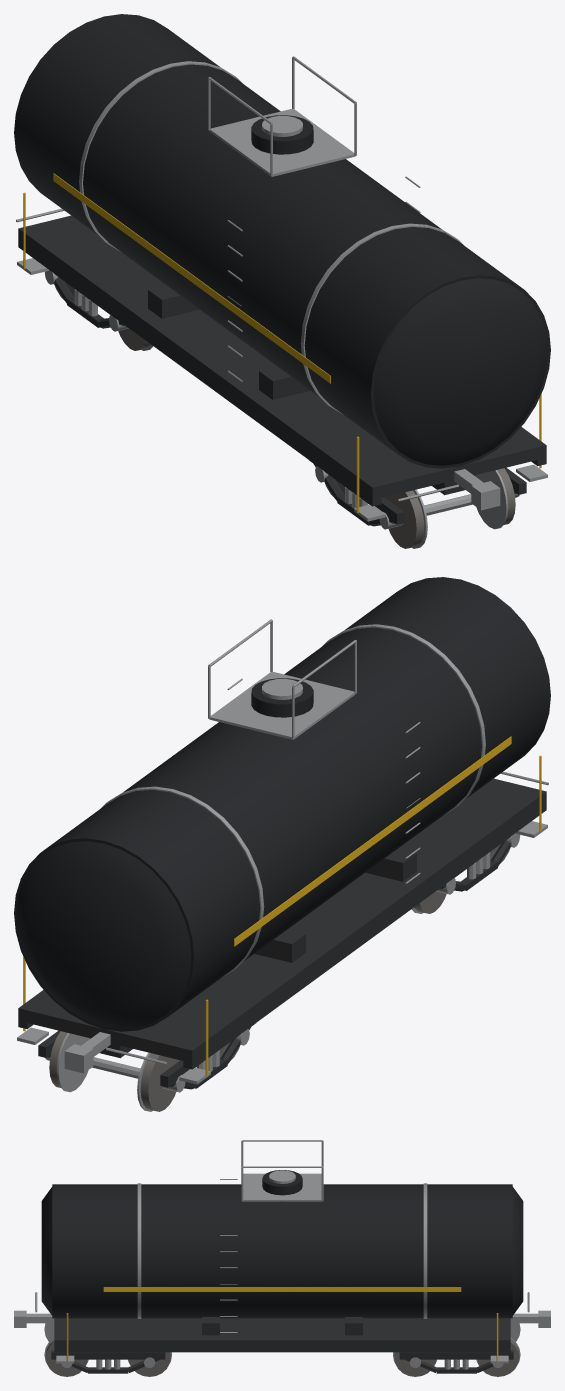
File: RS_Wagon_Tank.fbx
The picture shows the model from 3 angles, top to bottom: view 1: azimuth 30°, elevation 25°; view 2: azimuth 150°, elevation 25°; view 3: azimuth 270°, elevation 25°; orthographic projection. The views are drawn at different scales.
Visible parts, largest first — view 1: Wagon_Tank_Paint_Tank, Wagon_Tank_Underframe, Wagon_Tank_Steel, Wagon_Tank_Paint_Yellow, Wagon_Tank_Wheel; view 2: Wagon_Tank_Paint_Tank, Wagon_Tank_Underframe, Wagon_Tank_Steel, Wagon_Tank_Paint_Yellow, Wagon_Tank_Wheel; view 3: Wagon_Tank_Paint_Tank, Wagon_Tank_Underframe, Wagon_Tank_Steel, Wagon_Tank_Paint_Yellow, Wagon_Tank_Wheel.
Part boxes in pixels (box(x1,y1,x2,y2)): Wagon_Tank_Paint_Tank: box(14, 14, 550, 468); Wagon_Tank_Underframe: box(18, 215, 546, 526); Wagon_Tank_Steel: box(16, 56, 547, 548); Wagon_Tank_Paint_Yellow: box(23, 173, 541, 512); Wagon_Tank_Wheel: box(54, 282, 515, 548); Wagon_Tank_Paint_Tank: box(14, 577, 550, 1031); Wagon_Tank_Underframe: box(18, 778, 546, 1089); Wagon_Tank_Steel: box(17, 619, 548, 1111); Wagon_Tank_Paint_Yellow: box(23, 736, 541, 1075); Wagon_Tank_Wheel: box(49, 845, 510, 1111); Wagon_Tank_Paint_Tank: box(41, 1170, 523, 1318); Wagon_Tank_Underframe: box(51, 1317, 513, 1373); Wagon_Tank_Steel: box(14, 1140, 550, 1369); Wagon_Tank_Paint_Yellow: box(66, 1287, 498, 1361); Wagon_Tank_Wheel: box(45, 1340, 519, 1376).
Size of the model in its own units: 3.07 by 5.17 by 12.02.
